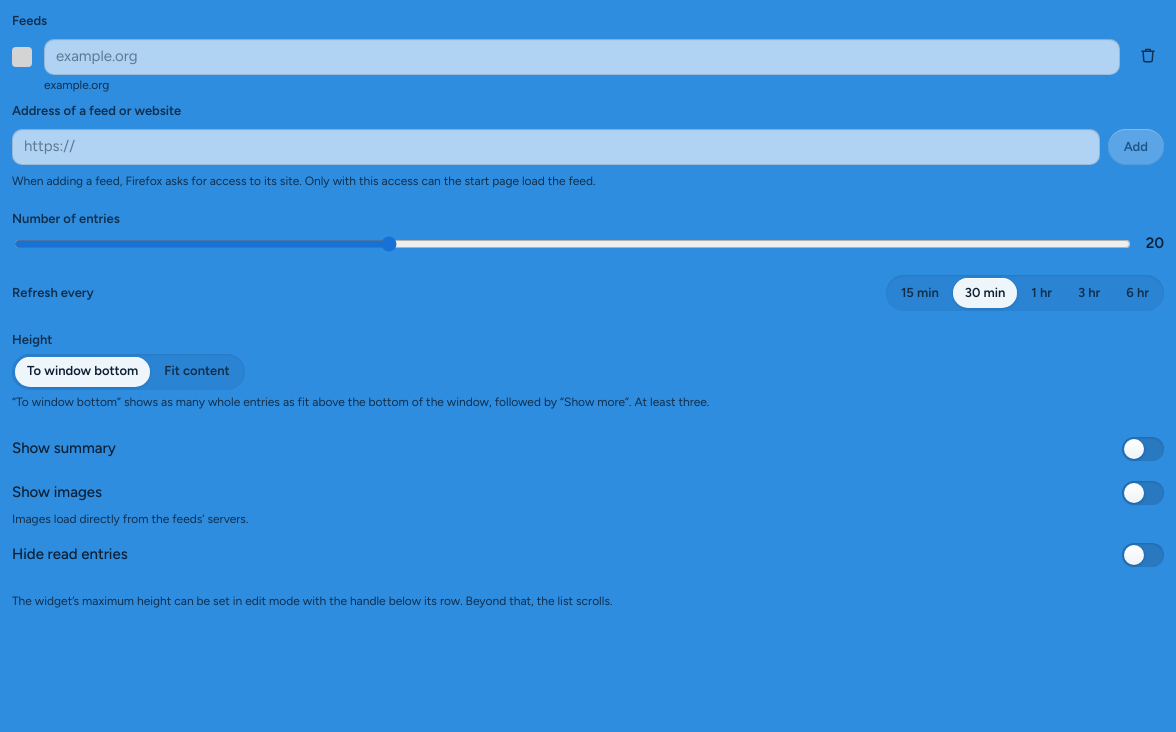
Test case: Einstellungen des RSS-Widgets › meldet ungültige und doppelte Adressen, ohne Rechte anzufragen
Type "ftp://example.org/" into the field labelled "Address of a feed or website" at (556, 147), box x1=12 y1=129 x2=1100 y2=165
Then press Enter
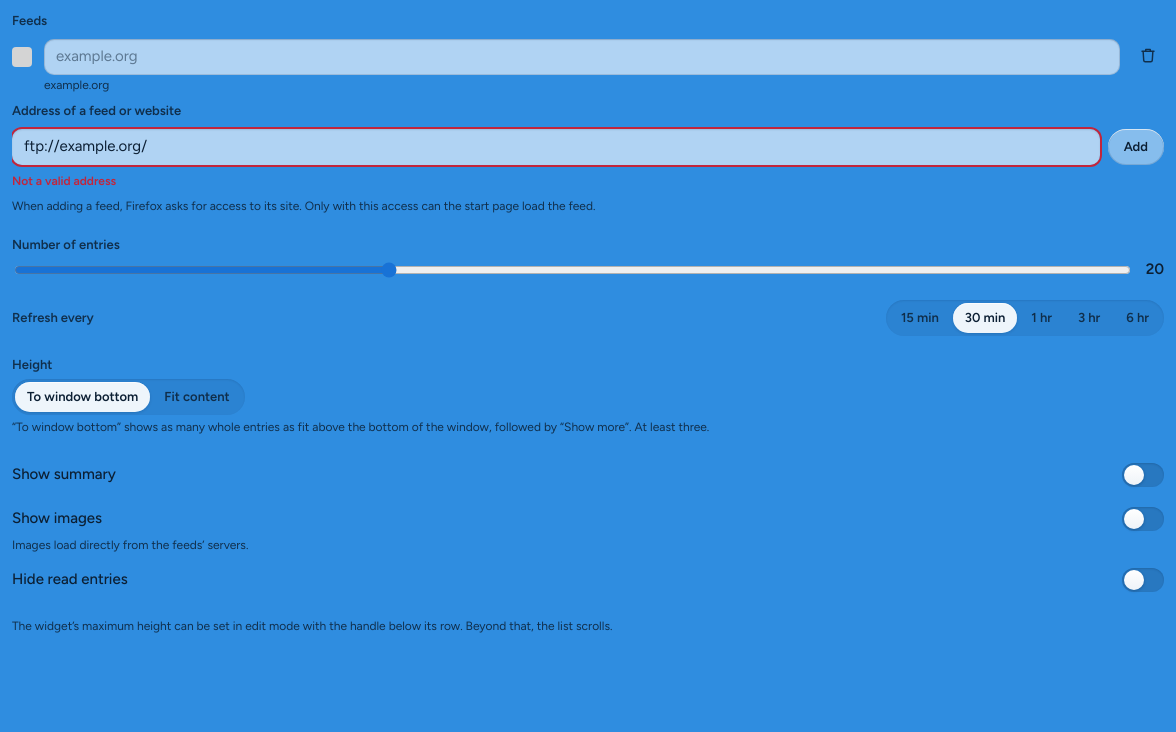
Expected: the text "Not a valid address" is shown, x1=12 y1=174 x2=116 y2=188
Replace the text in the field labelled "Address of a feed or website" with "example.org/feed" at (556, 147), box x1=12 y1=129 x2=1100 y2=165
Then press Enter
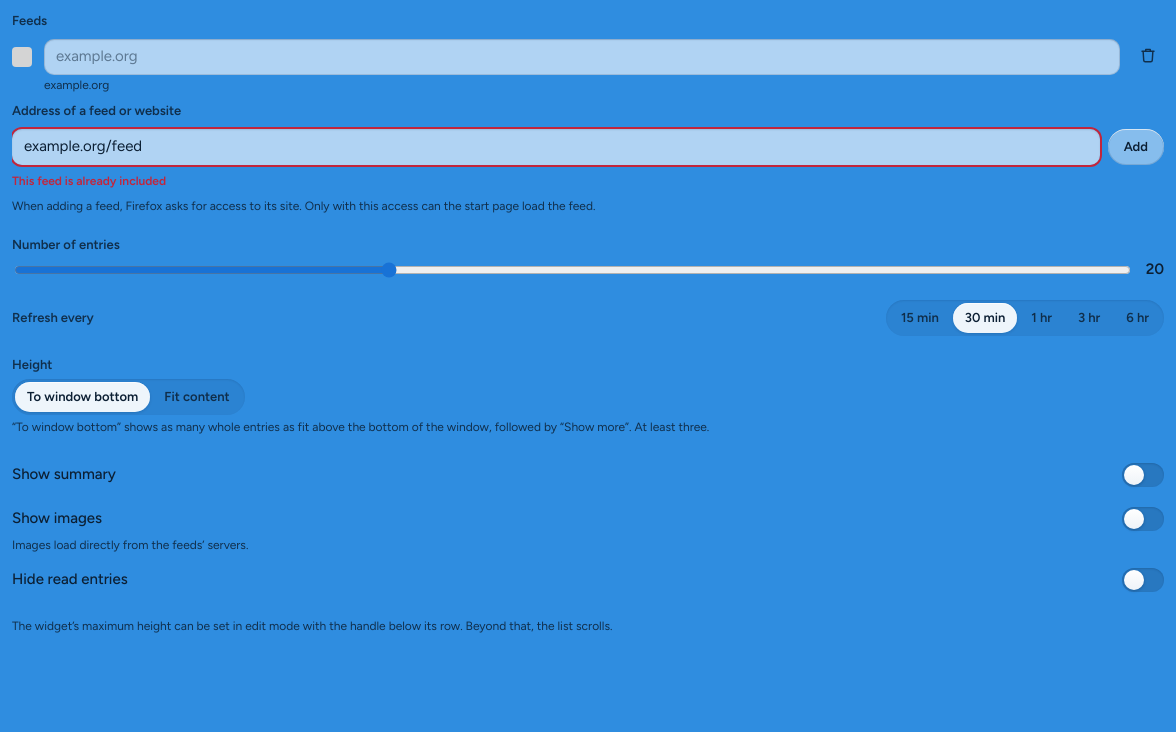
Expected: the text "This feed is already included" is shown, x1=12 y1=174 x2=166 y2=188
